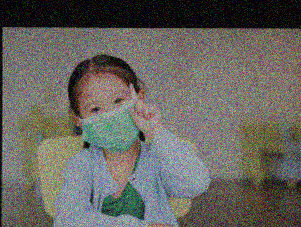with_mask: (79, 88, 136, 150)
